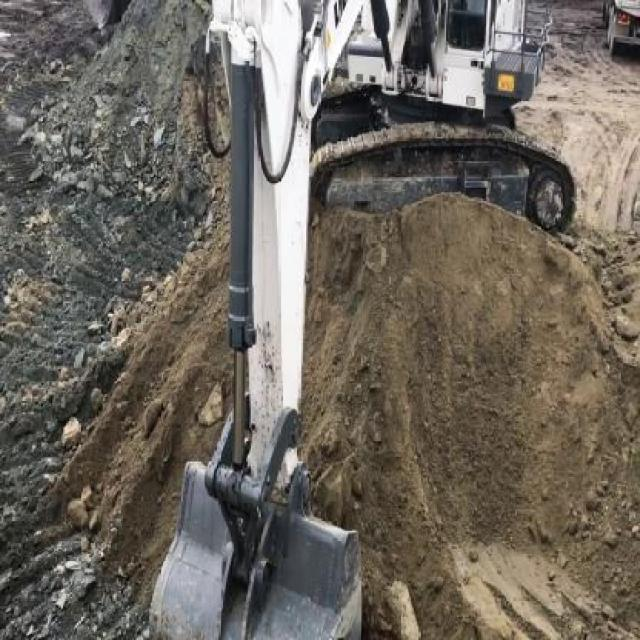Excavator: (147, 1, 576, 636)
